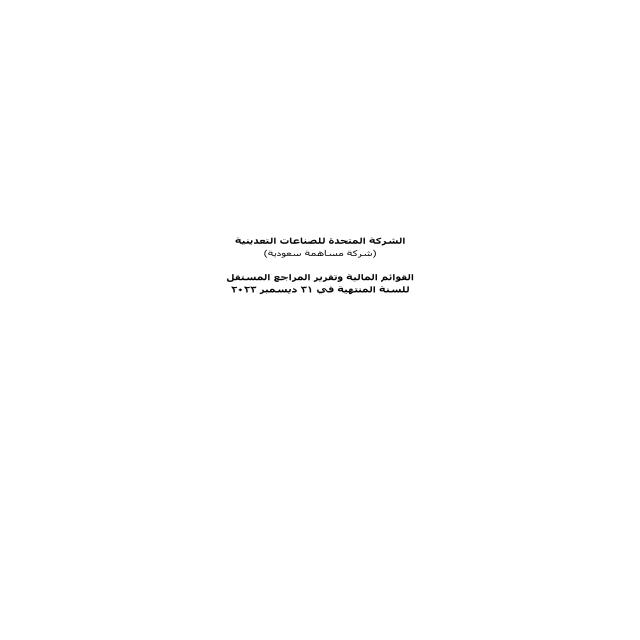other: (163, 169, 460, 358)
